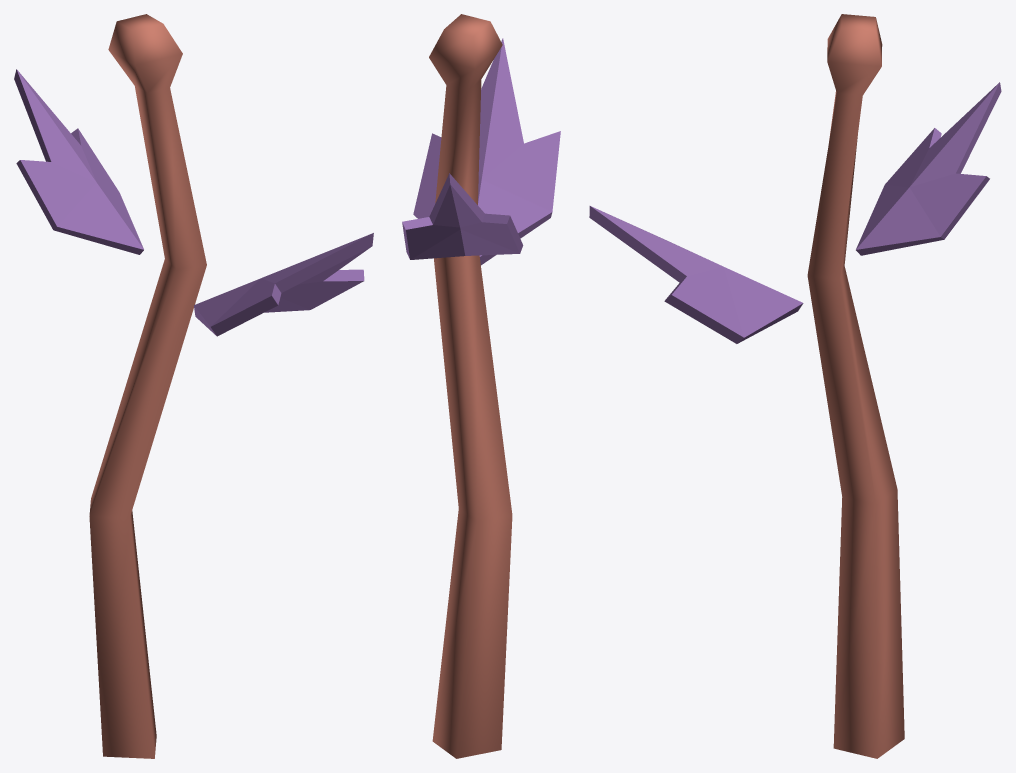
The model's file is asteroidPlant_stage1.fbx.
3 renders of one model, left to right at view 1: azimuth 30°, elevation 25°; view 2: azimuth 150°, elevation 25°; view 3: azimuth 270°, elevation 25°, orthographic.
Parts seen in each view (by area): view 1: sprout_asteroidPlant_stem, sprout_asteroidPlant_leaf2, sprout_asteroidPlant_leaf1; view 2: sprout_asteroidPlant_stem, sprout_asteroidPlant_leaf1, sprout_asteroidPlant_leaf2; view 3: sprout_asteroidPlant_stem, sprout_asteroidPlant_leaf2, sprout_asteroidPlant_leaf1.
Part boxes in pixels (x1,y1,x2,y2): sprout_asteroidPlant_stem: [89, 14, 206, 758]; sprout_asteroidPlant_leaf2: [14, 69, 143, 254]; sprout_asteroidPlant_leaf1: [194, 233, 373, 336]; sprout_asteroidPlant_stem: [429, 14, 512, 758]; sprout_asteroidPlant_leaf1: [413, 38, 560, 265]; sprout_asteroidPlant_leaf2: [402, 173, 523, 259]; sprout_asteroidPlant_stem: [807, 14, 904, 758]; sprout_asteroidPlant_leaf2: [856, 82, 1001, 255]; sprout_asteroidPlant_leaf1: [589, 206, 803, 343].
Size of the model in its own units: 1.1 by 3.64 by 1.87.
